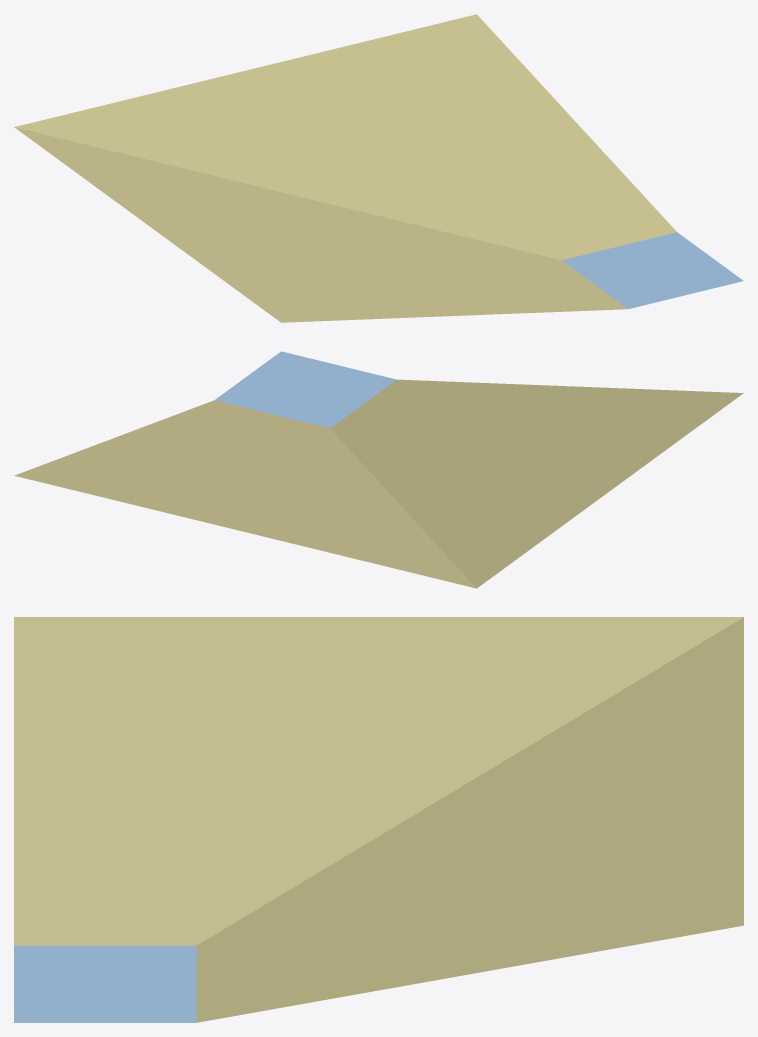
Rendered from beach_tile_1x1_001.fbx.
3 views of the same model, one above another, from view 1: azimuth 30°, elevation 25°; view 2: azimuth 150°, elevation 25°; view 3: azimuth 270°, elevation 25° (orthographic). The views are drawn at different scales.
Parts seen in each view (by area): view 1: beach_tile_1x1_001; view 2: beach_tile_1x1_001; view 3: beach_tile_1x1_001.
Part boxes in pixels (x1,y1,x2,y2): beach_tile_1x1_001: (14,14,743,322); beach_tile_1x1_001: (14,351,743,588); beach_tile_1x1_001: (14,617,743,1022).
Size of the model in its own units: 800 by 118 by 800.
